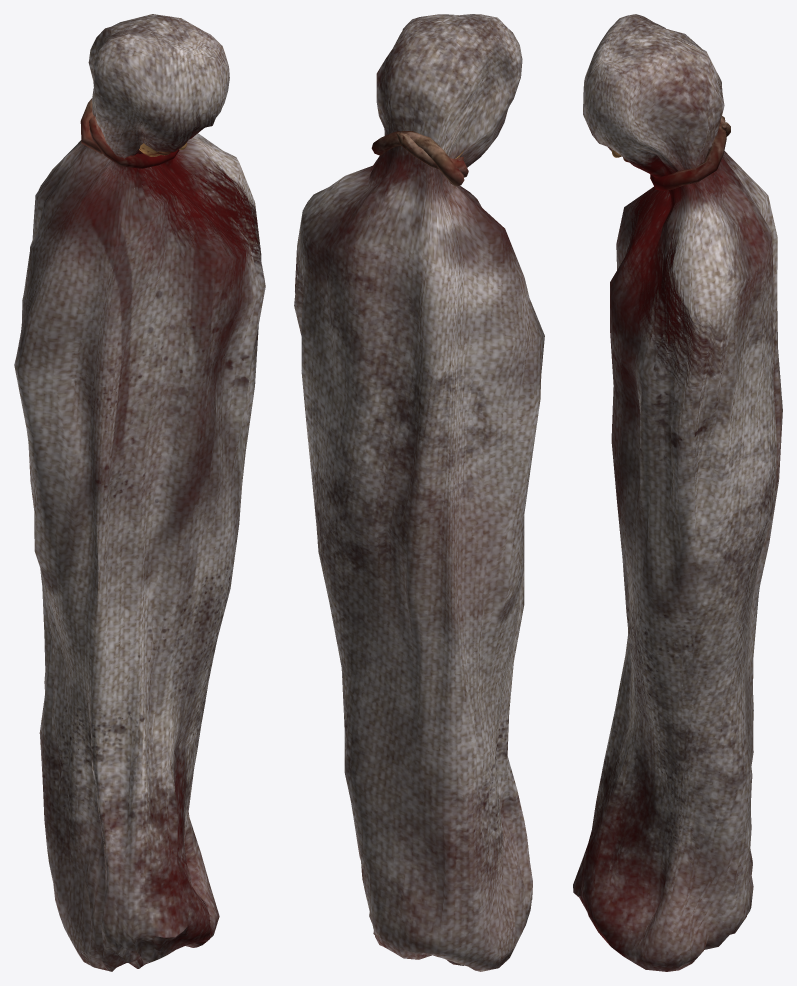
File: bodybag_NAnimation.fbx
3 renders of one model, left to right at view 1: azimuth 30°, elevation 25°; view 2: azimuth 150°, elevation 25°; view 3: azimuth 270°, elevation 25°, orthographic. The views are drawn at different scales.
Visible parts, largest first — view 1: Cube.011; view 2: Cube.011; view 3: Cube.011.
Part boxes in pixels (x1,y1,x2,y2): Cube.011: (14,14,265,971); Cube.011: (294,14,544,971); Cube.011: (573,14,782,971).
Bounding box in the file's own units: 46.38 × 172 × 35.42.
